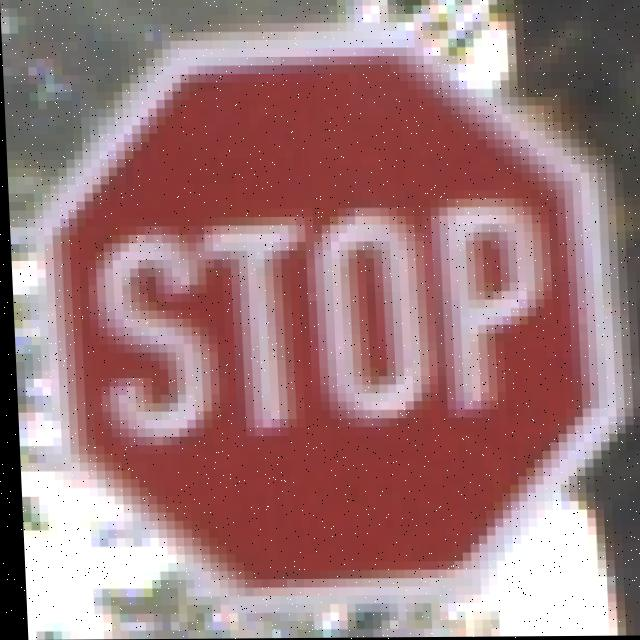stop: (10, 10, 629, 589)
